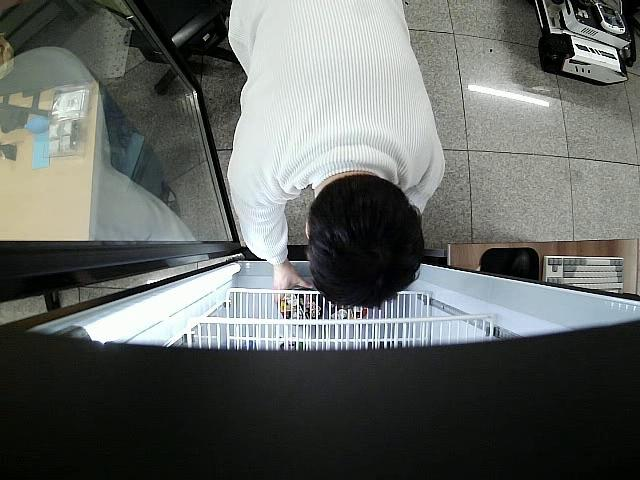00_hand: (271, 264, 306, 309)
07_buldak_L: (279, 285, 320, 321)
